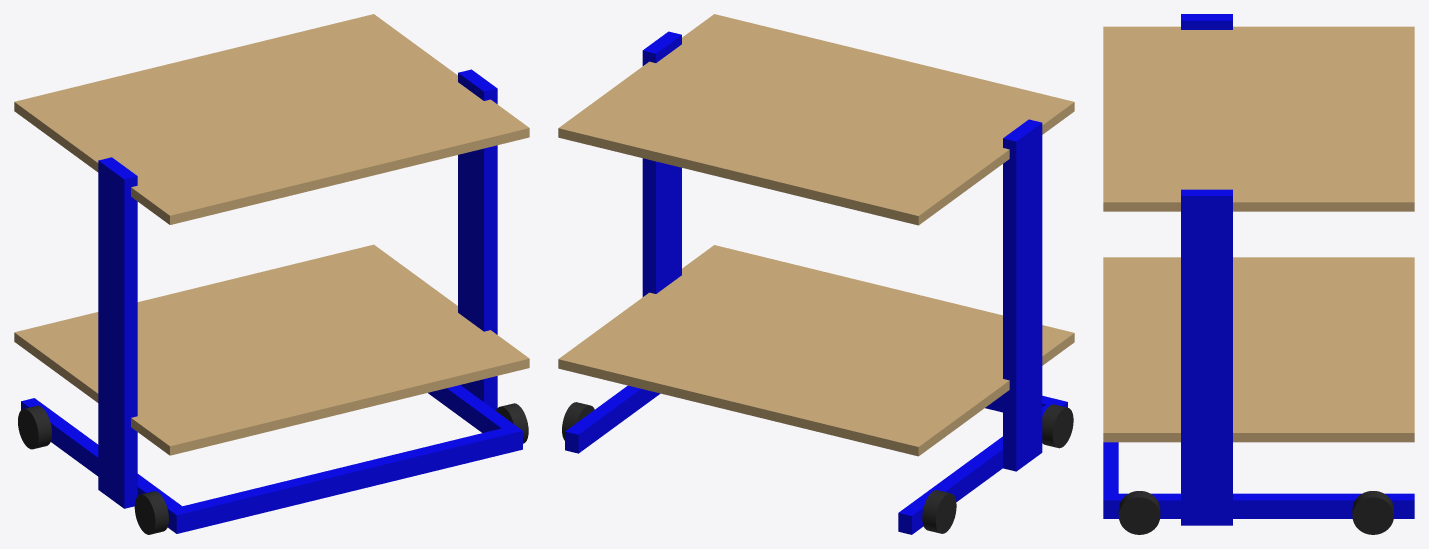
Rendered from Wagen.dae.
The picture shows the model from 3 angles, left to right: view 1: azimuth 30°, elevation 25°; view 2: azimuth 150°, elevation 25°; view 3: azimuth 270°, elevation 25°; orthographic projection.
Parts seen in each view (by area): view 1: Wagen (×17); view 2: Wagen (×15); view 3: Wagen (×14).
Boxes of the visible parts, x1,y1,x2,y2 form: Wagen (×17): (14,14,529,534); Wagen (×15): (558,14,1073,533); Wagen (×14): (1103,20,1414,534).
Size of the model in its own units: 830 by 600 by 720.
